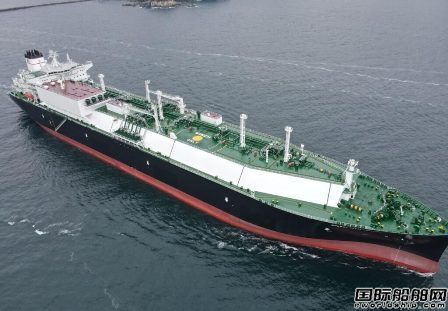Cargoship: (4, 43, 447, 271)
